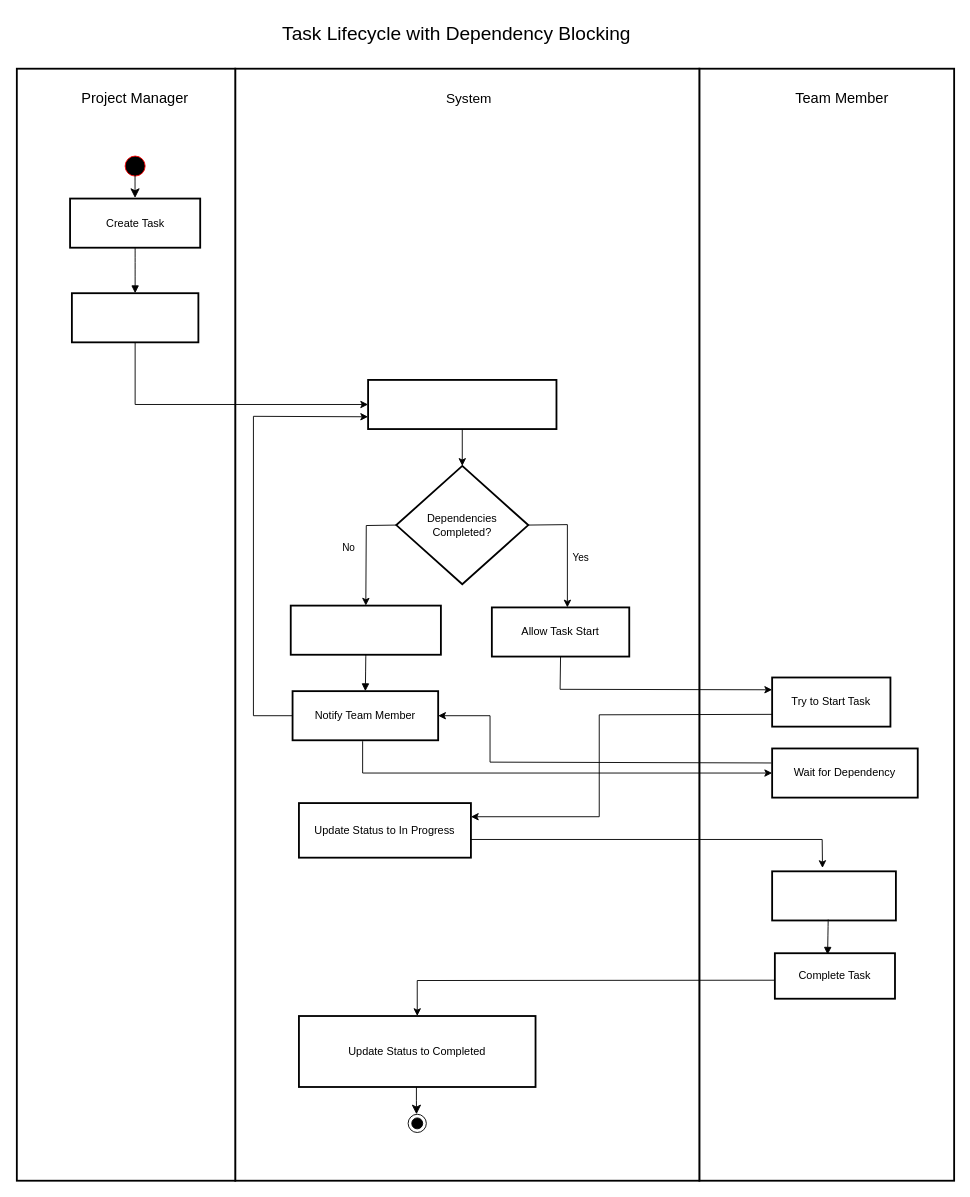
This 970x1197 diagram has some shape labels left out. Each missing label, with the centre of its shape:
Assign Task: point (135, 317)
Check Dependencies: point (462, 404)
Mark Task as BLOCKED: point (365, 629)
Start Work: point (833, 895)
